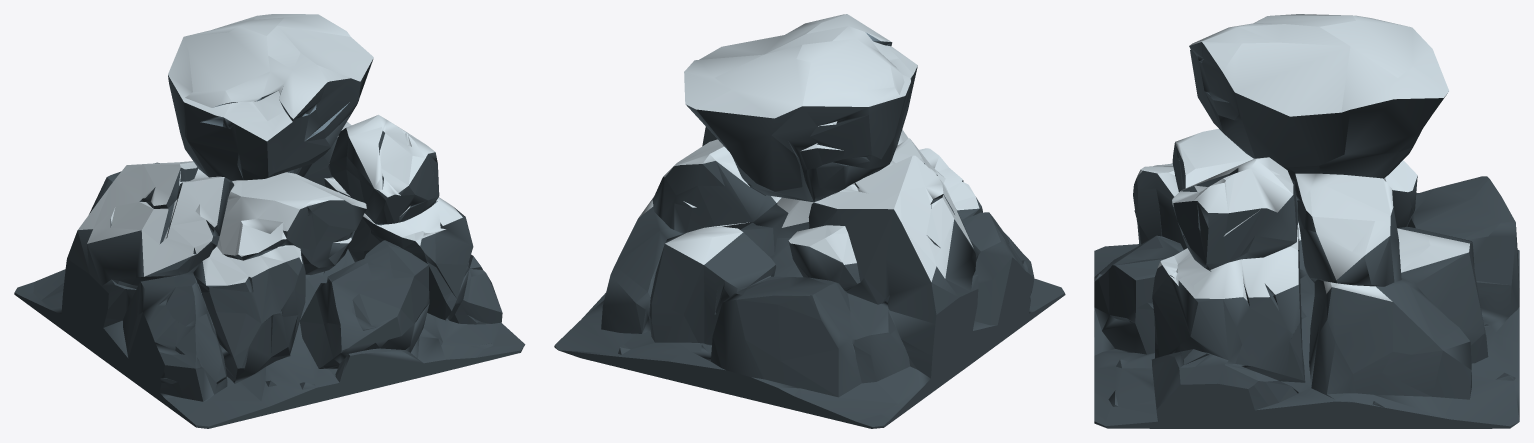
The model's file is cover_half_snow_v1.glb.
3 views of the same model, side by side, from view 1: azimuth 30°, elevation 25°; view 2: azimuth 150°, elevation 25°; view 3: azimuth 270°, elevation 25° (orthographic). The views are drawn at different scales.
Size of the model in its own units: 0.98 by 0.7975 by 0.98.
